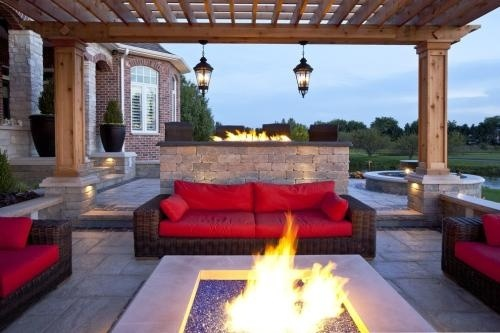fire: (218, 215, 355, 330), (214, 126, 295, 143)
